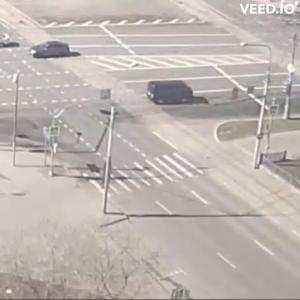car: (147, 80, 197, 109), (31, 41, 82, 60), (2, 33, 16, 48), (2, 41, 21, 49)
